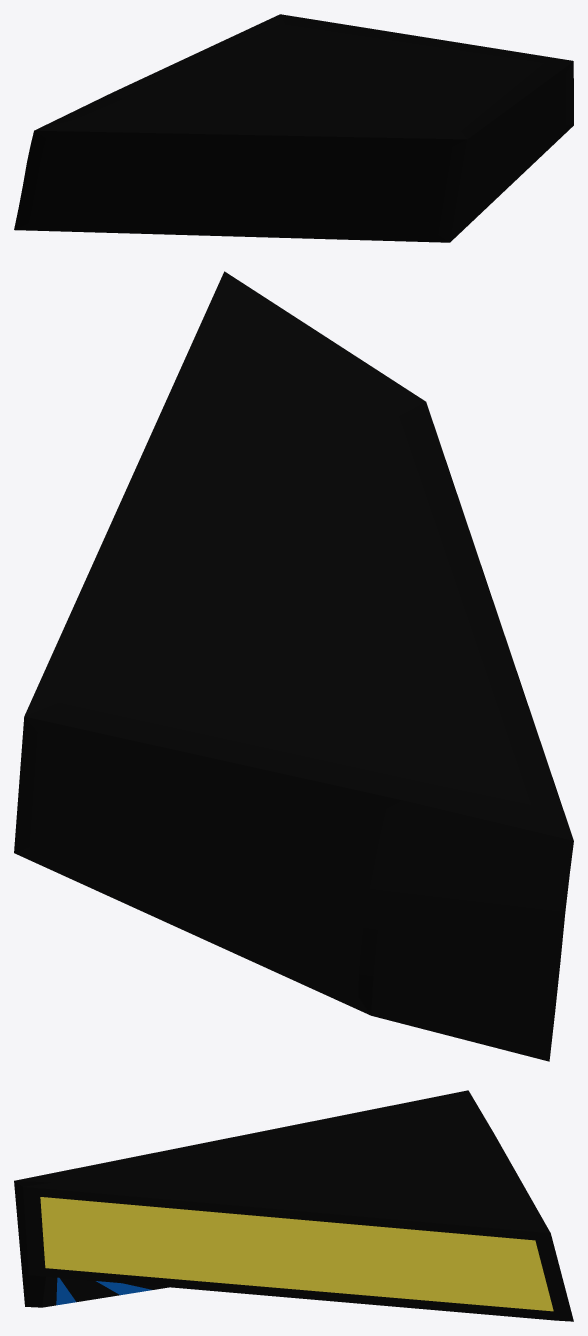
3 renders of one model, top to bottom at view 1: azimuth 30°, elevation 25°; view 2: azimuth 150°, elevation 25°; view 3: azimuth 270°, elevation 25°, orthographic. The views are drawn at different scales.
Visible parts, largest first — view 1: P to U; view 2: P to U; view 3: P to U.
Part boxes in pixels (<box>): P to U: <box>14,14,573,242</box>; P to U: <box>14,271,573,1061</box>; P to U: <box>14,1090,573,1321</box>.
Bounding box in the file's own units: 8.55 × 4.73 × 8.54.
